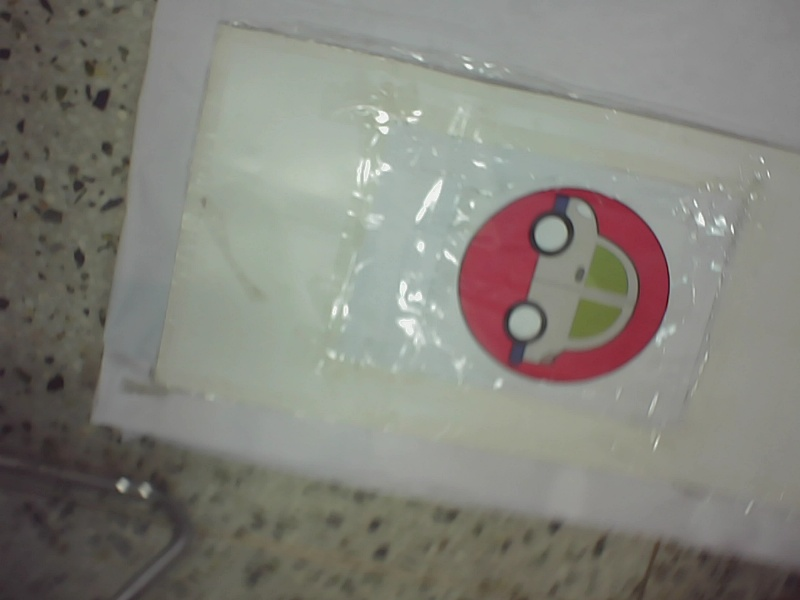areaC: (453, 182, 674, 392)
